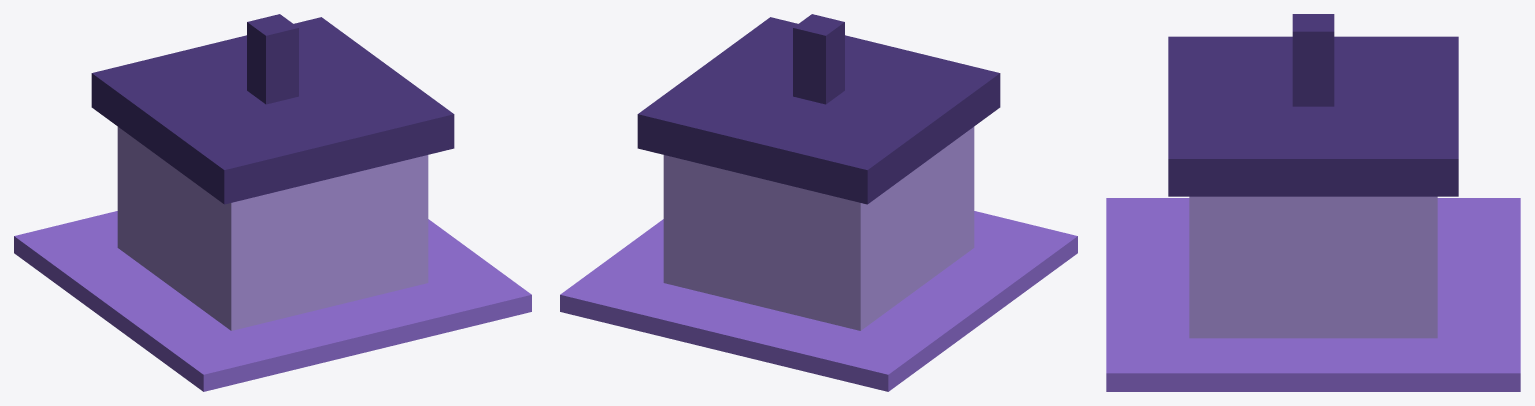
File: zone-spawner.glb
3 views of the same model, side by side, from view 1: azimuth 30°, elevation 25°; view 2: azimuth 150°, elevation 25°; view 3: azimuth 270°, elevation 25° (orthographic). The views are drawn at different scales.
Parts seen in each view (by area): view 1: body, roof, ground, spire; view 2: body, roof, ground, spire; view 3: ground, roof, body, spire.
Boxes of the visible parts, <box> form: body: <box>117,127,428,330</box>; roof: <box>91,17,454,204</box>; ground: <box>14,211,531,391</box>; spire: <box>247,14,298,104</box>; body: <box>663,127,974,330</box>; roof: <box>637,17,1000,204</box>; ground: <box>560,211,1077,391</box>; spire: <box>793,14,844,104</box>; ground: <box>1106,198,1520,391</box>; roof: <box>1168,36,1458,196</box>; body: <box>1189,196,1437,338</box>; spire: <box>1292,14,1334,106</box>.
Bounding box in the file's own units: 4 × 3 × 4.
